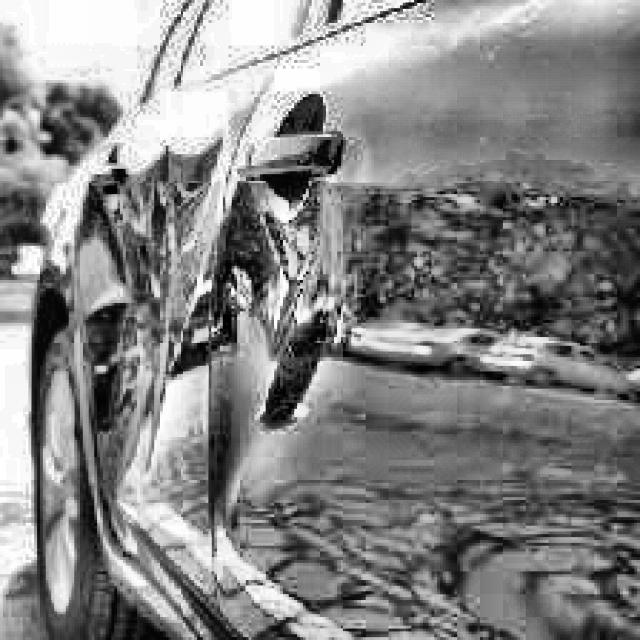door_dent: (86, 170, 287, 510)
